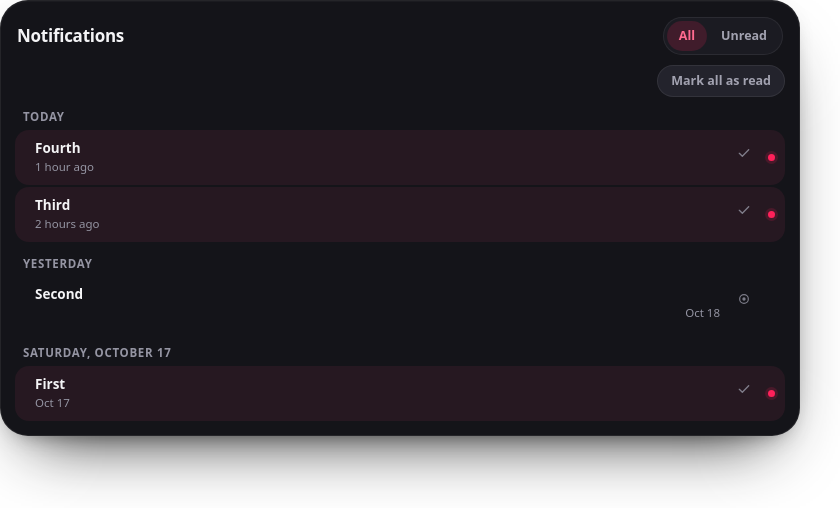
the default animation kit › holds a row it just marked read for the exit, already out of the tree
The image size is (840, 508).
Expected: the text "Fourth" is shown, x1=35 y1=139 x2=80 y2=157
Click the button "Unread": coordinates (744, 36) x1=709 y1=21 x2=779 y2=51
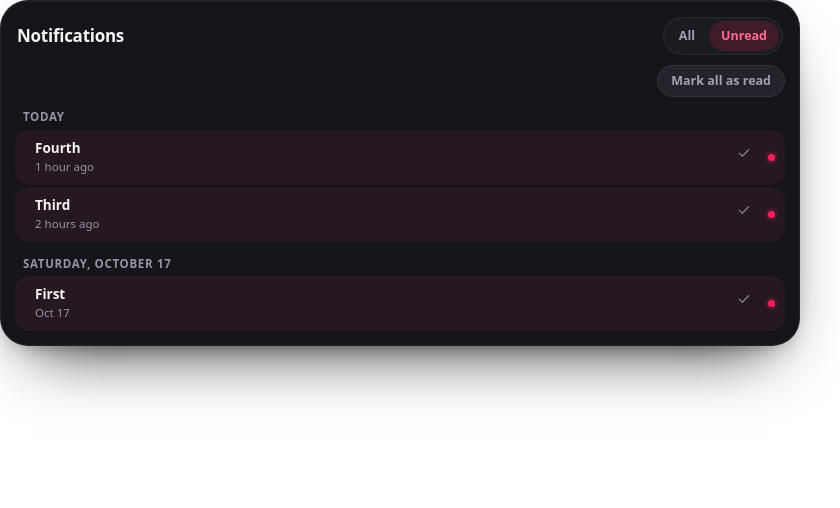
Expected: the text "Second" is gone
Click the button named "Mark as read: Fourth": coordinates (744, 153) x1=730 y1=139 x2=758 y2=167
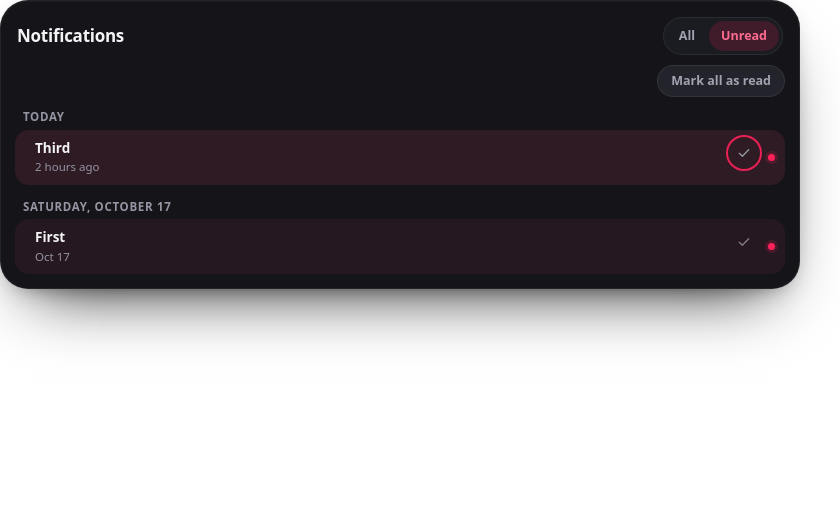
Expected: the button named "Mark as read: Third" is shown, x1=730 y1=139 x2=758 y2=167
Expected: the button "Fourth 1 hour ago" is gone
Expected: the button "Fourth" is gone
